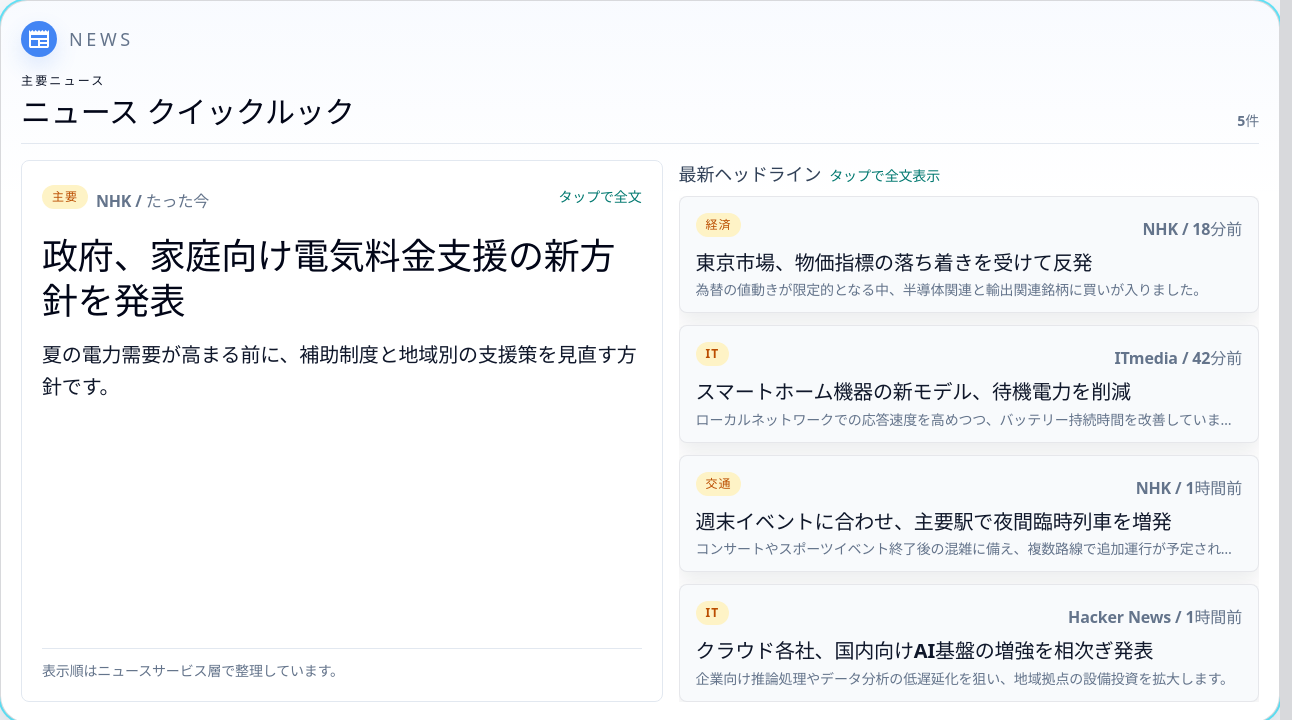
Scenario: NewsWidget › full summary overlay › opens the overlay when the featured article is tapped and closes with the close button
The width and height of the screenshot is (1292, 720).
Expected: the text "閉じる" is not shown
Click the heading "政府、家庭向け電気料金支援の新方針を発表" at (342,278), box [42, 232, 642, 322]
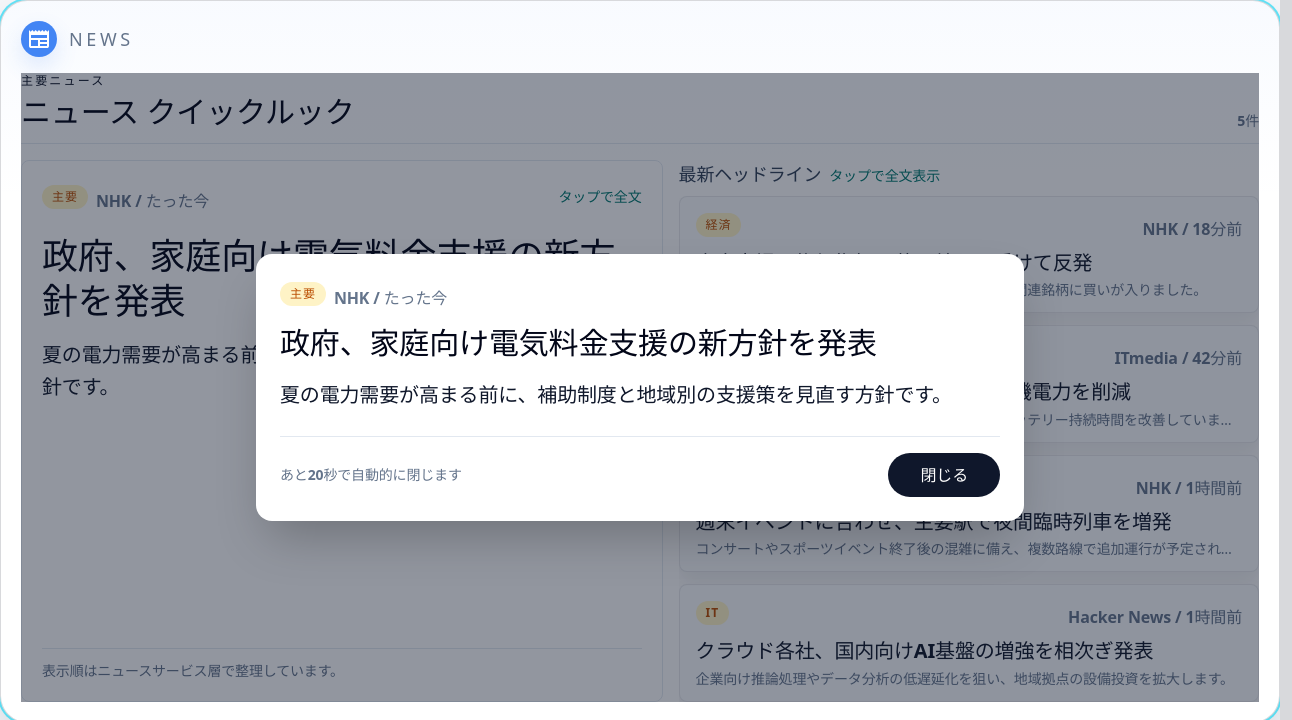
Expected: the button "閉じる" is shown
Expected: the text "あと20秒で自動的に閉じます" is shown, [280, 465, 462, 485]
Click the button "閉じる" at (944,475), box [888, 453, 1000, 497]
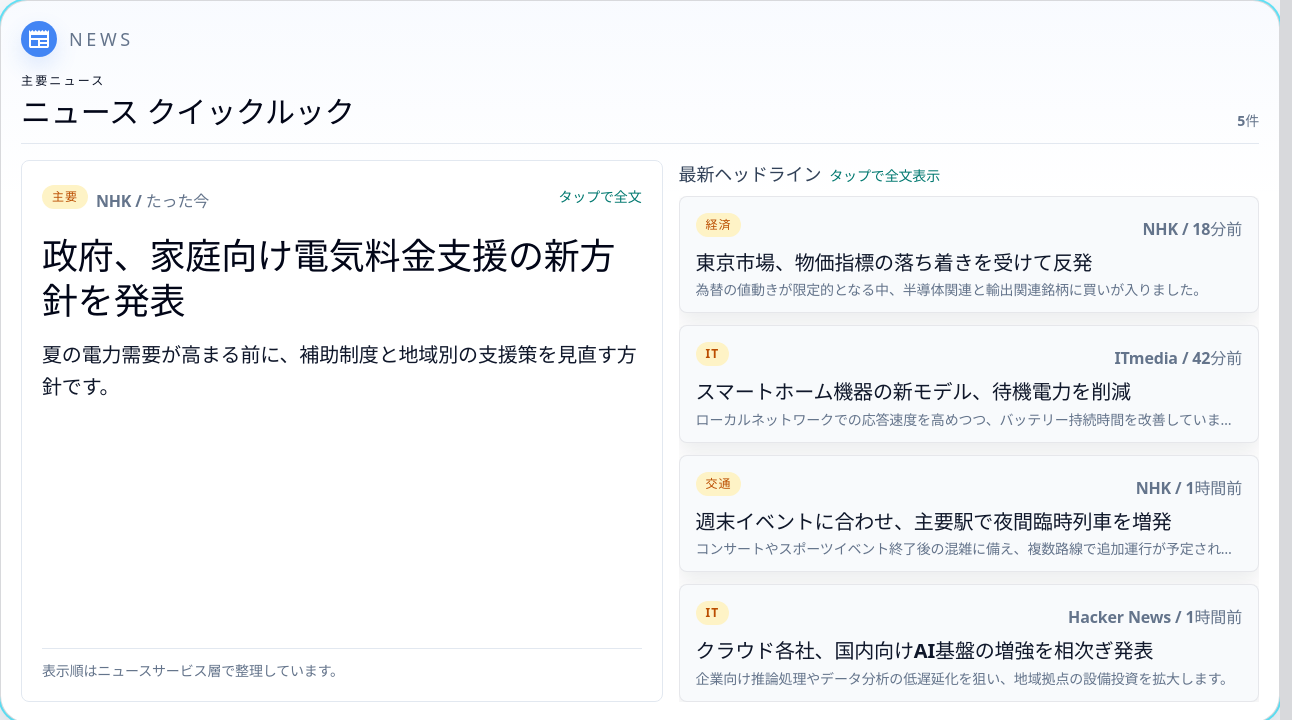
Expected: the button "閉じる" is gone
